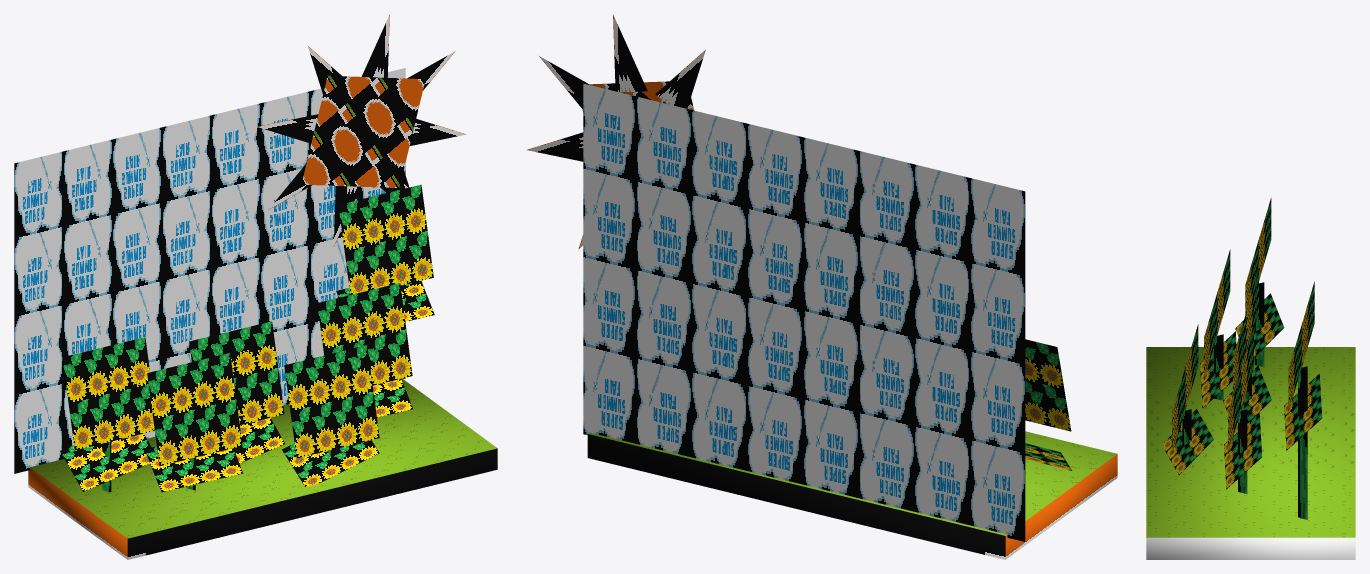
3 views of the same model, side by side, from view 1: azimuth 30°, elevation 25°; view 2: azimuth 150°, elevation 25°; view 3: azimuth 270°, elevation 25° (orthographic). The views are drawn at different scales.
Parts seen in each view (by area): view 1: 3774kg_sh0_21; view 2: 3774kg_sh0_21; view 3: 3774kg_sh0_21.
Boxes of the visible parts, x1=… form: 3774kg_sh0_21: x1=14, y1=14, x2=497, y2=559; 3774kg_sh0_21: x1=527, y1=14, x2=1117, y2=559; 3774kg_sh0_21: x1=1146, y1=198, x2=1355, y2=559.
Bounding box in the file's own units: 2.34 × 1.96 × 0.8999.
4 materials, 4 textured.
